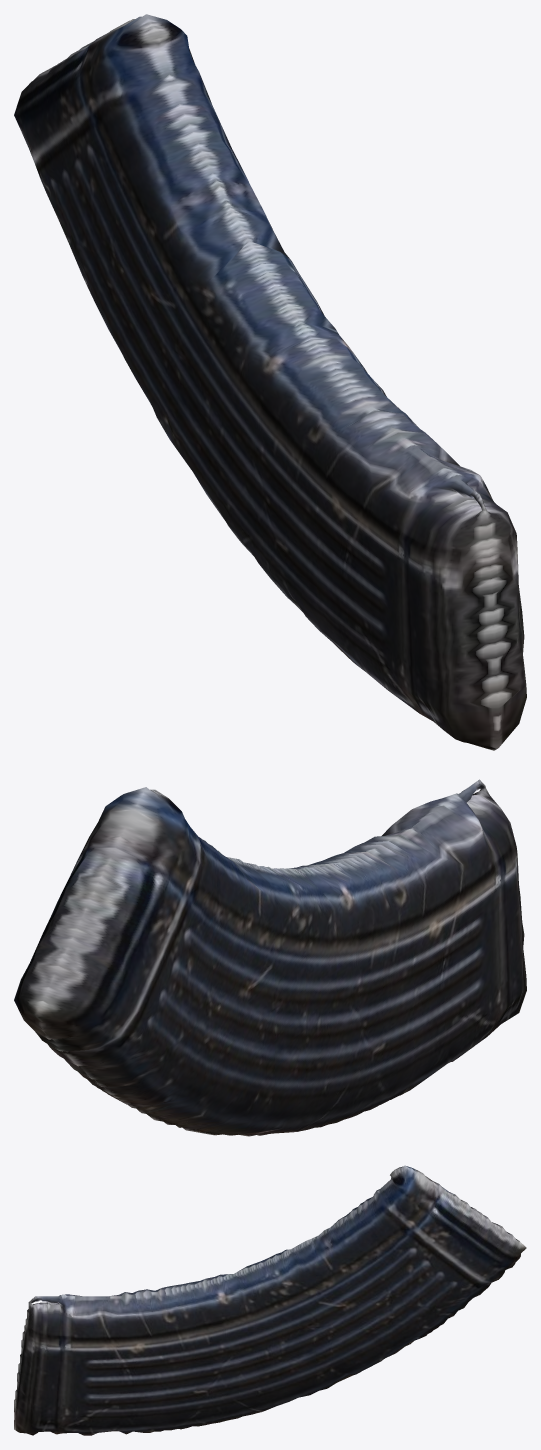
File: fusil-piece1.glb
The picture shows the model from 3 angles, top to bottom: view 1: azimuth 30°, elevation 25°; view 2: azimuth 150°, elevation 25°; view 3: azimuth 270°, elevation 25°; orthographic projection. The views are drawn at different scales.
Visible parts, largest first — view 1: fusil-piece1; view 2: fusil-piece1; view 3: fusil-piece1.
Boxes of the visible parts, x1,y1,x2,y2 form: fusil-piece1: [14, 14, 526, 750]; fusil-piece1: [14, 779, 526, 1136]; fusil-piece1: [14, 1165, 526, 1435].
Size of the model in its own units: 0.026 by 0.1241 by 0.2145.
1 material, 1 textured.
